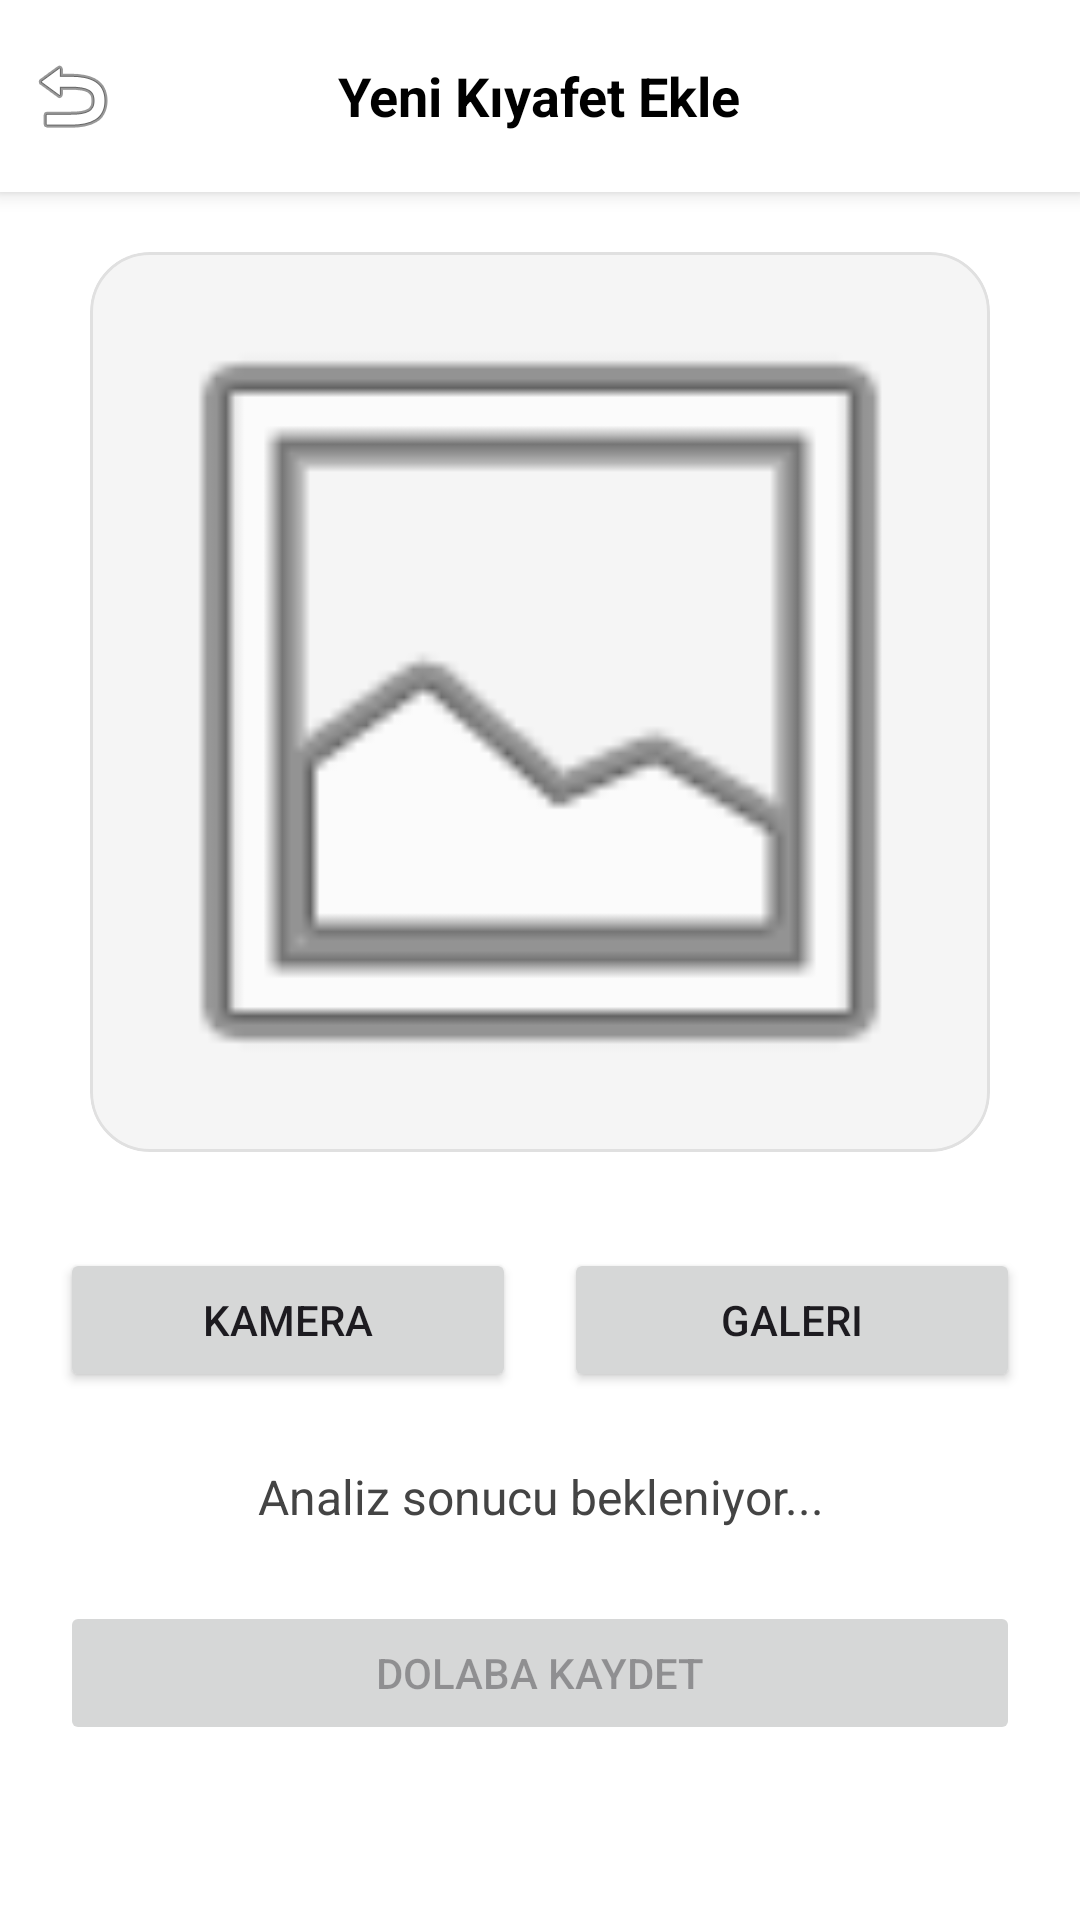

Icons on this 1080px×1920px Android screen, each with the point to tap as [x,y]:
revert: [73,96]
